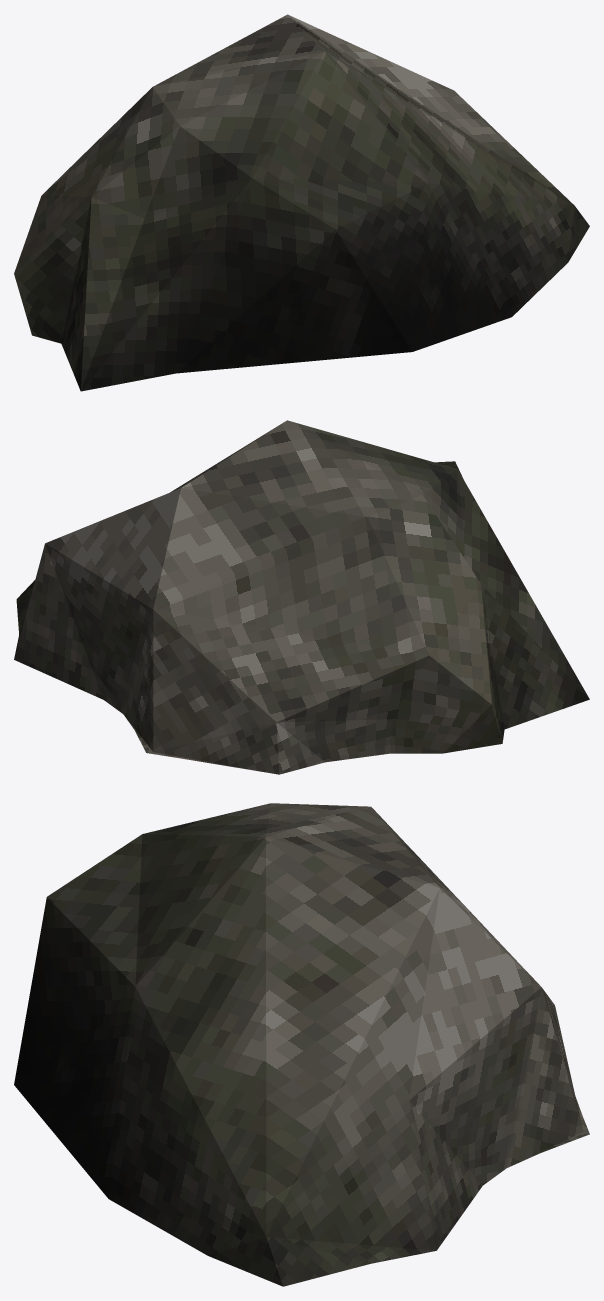
File: small_rocks_01.glb
3 renders of one model, top to bottom at view 1: azimuth 30°, elevation 25°; view 2: azimuth 150°, elevation 25°; view 3: azimuth 270°, elevation 25°, orthographic. The views are drawn at different scales.
Parts seen in each view (by area): view 1: small_rocks_01; view 2: small_rocks_01; view 3: small_rocks_01.
Boxes of the visible parts, bbox=[...] form: small_rocks_01: bbox=[14, 14, 589, 391]; small_rocks_01: bbox=[14, 420, 589, 774]; small_rocks_01: bbox=[14, 803, 589, 1286].
Bounding box in the file's own units: 3.51 × 1.5 × 2.68.
1 material, 1 textured.
